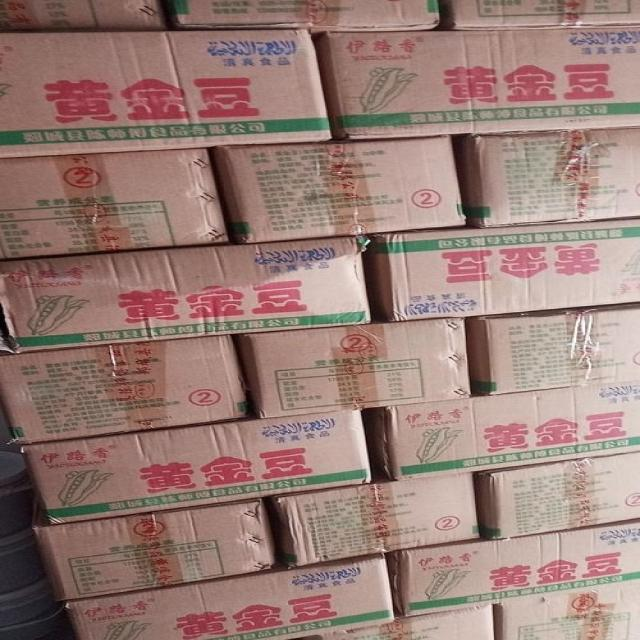box: (0, 236, 369, 354), (0, 30, 331, 160), (13, 411, 370, 527), (316, 25, 639, 142), (360, 216, 639, 322), (63, 555, 396, 639), (365, 382, 639, 483), (215, 137, 473, 244), (0, 335, 249, 444), (0, 147, 232, 260), (236, 316, 473, 420), (387, 523, 639, 619), (39, 503, 280, 602), (272, 472, 478, 566), (451, 127, 639, 227), (471, 300, 639, 397), (473, 451, 639, 541), (167, 1, 445, 29), (498, 590, 639, 638), (305, 608, 497, 640), (437, 2, 639, 31), (0, 1, 177, 34)
